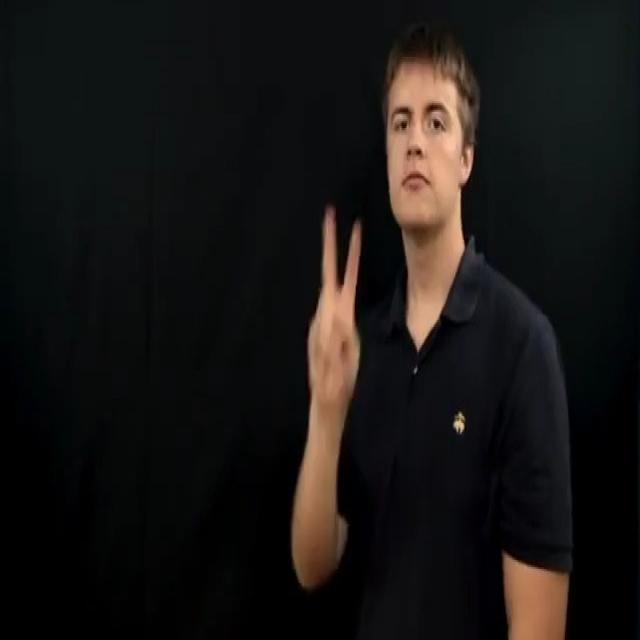vegetables: (306, 197, 366, 416)
